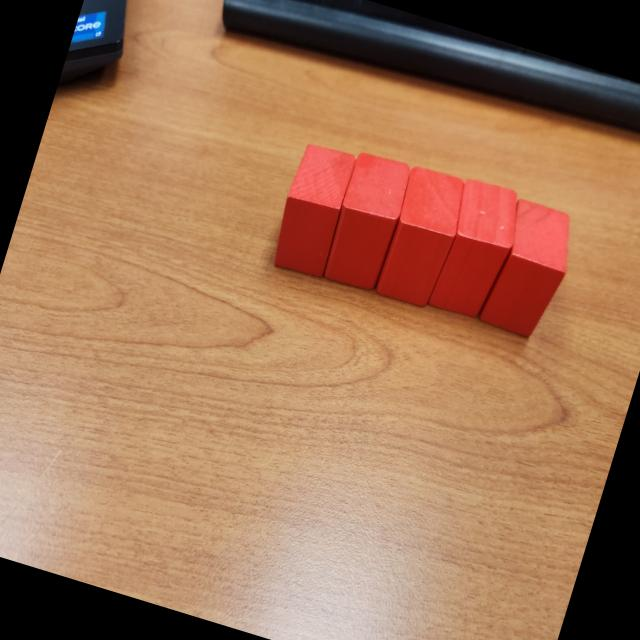red: (474, 193, 584, 344), (425, 173, 528, 324), (372, 162, 472, 312), (318, 148, 415, 294), (266, 138, 360, 281)
